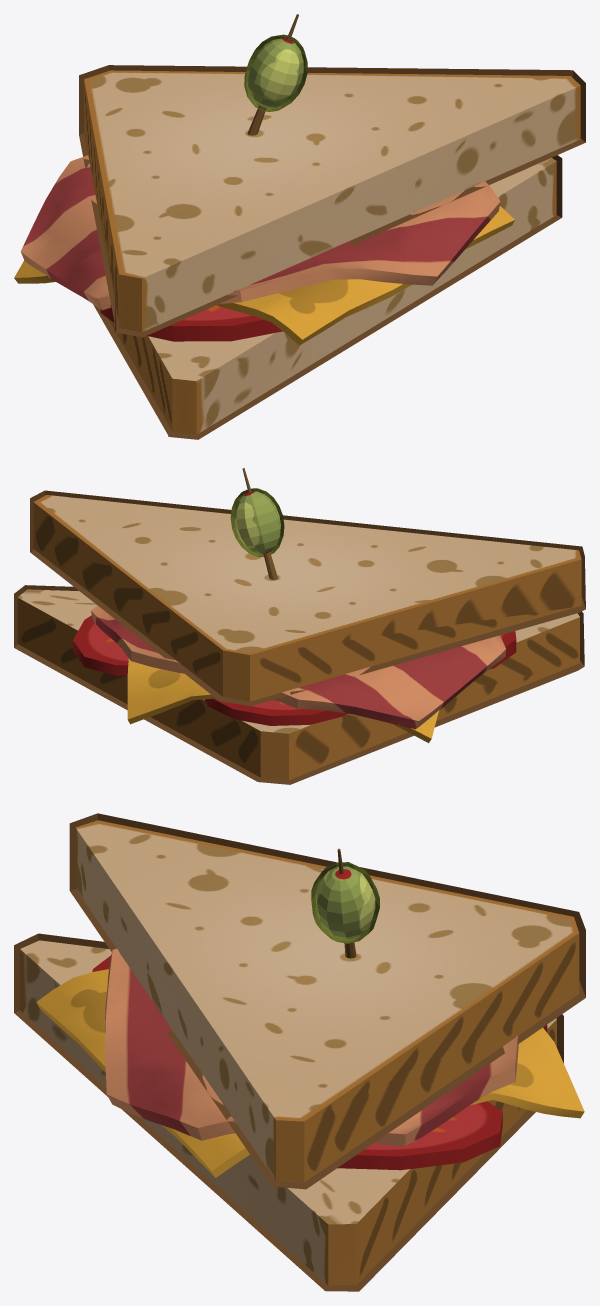
File: sandwitch.glb
3 renders of one model, top to bottom at view 1: azimuth 30°, elevation 25°; view 2: azimuth 150°, elevation 25°; view 3: azimuth 270°, elevation 25°, orthographic. The views are drawn at different scales.
Visible parts, largest first — view 1: node3, node5, node4; view 2: node3, node5, node4; view 3: node3, node5, node4.
Boxes of the visible parts, x1=… form: node3: x1=14, y1=14, x2=580, y2=434; node5: x1=79, y1=65, x2=585, y2=439; node4: x1=244, y1=34, x2=307, y2=111; node3: x1=17, y1=468, x2=581, y2=780; node5: x1=14, y1=490, x2=585, y2=784; node4: x1=230, y1=488, x2=284, y2=557; node3: x1=20, y1=820, x2=584, y2=1285; node5: x1=14, y1=813, x2=585, y2=1291; node4: x1=311, y1=862, x2=379, y2=943.
Bounding box in the file's own units: 7.89 × 3.63 × 6.24.
Materials: 3 (1 with a texture image).
